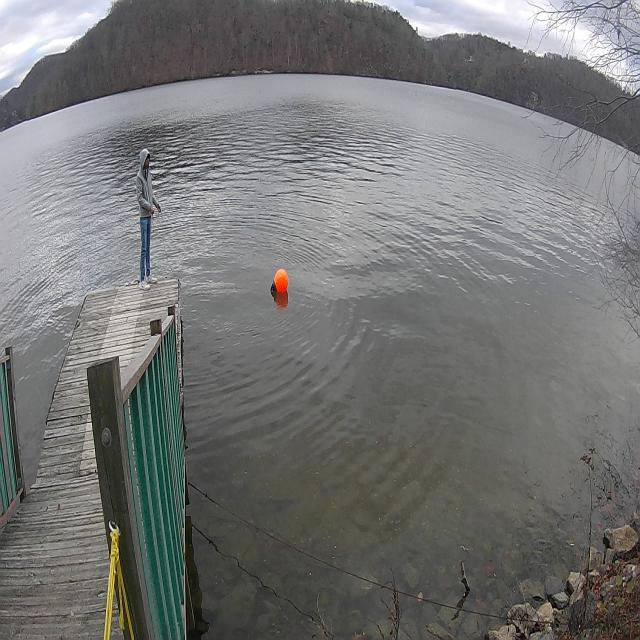Buoy: (269, 265, 291, 300)
